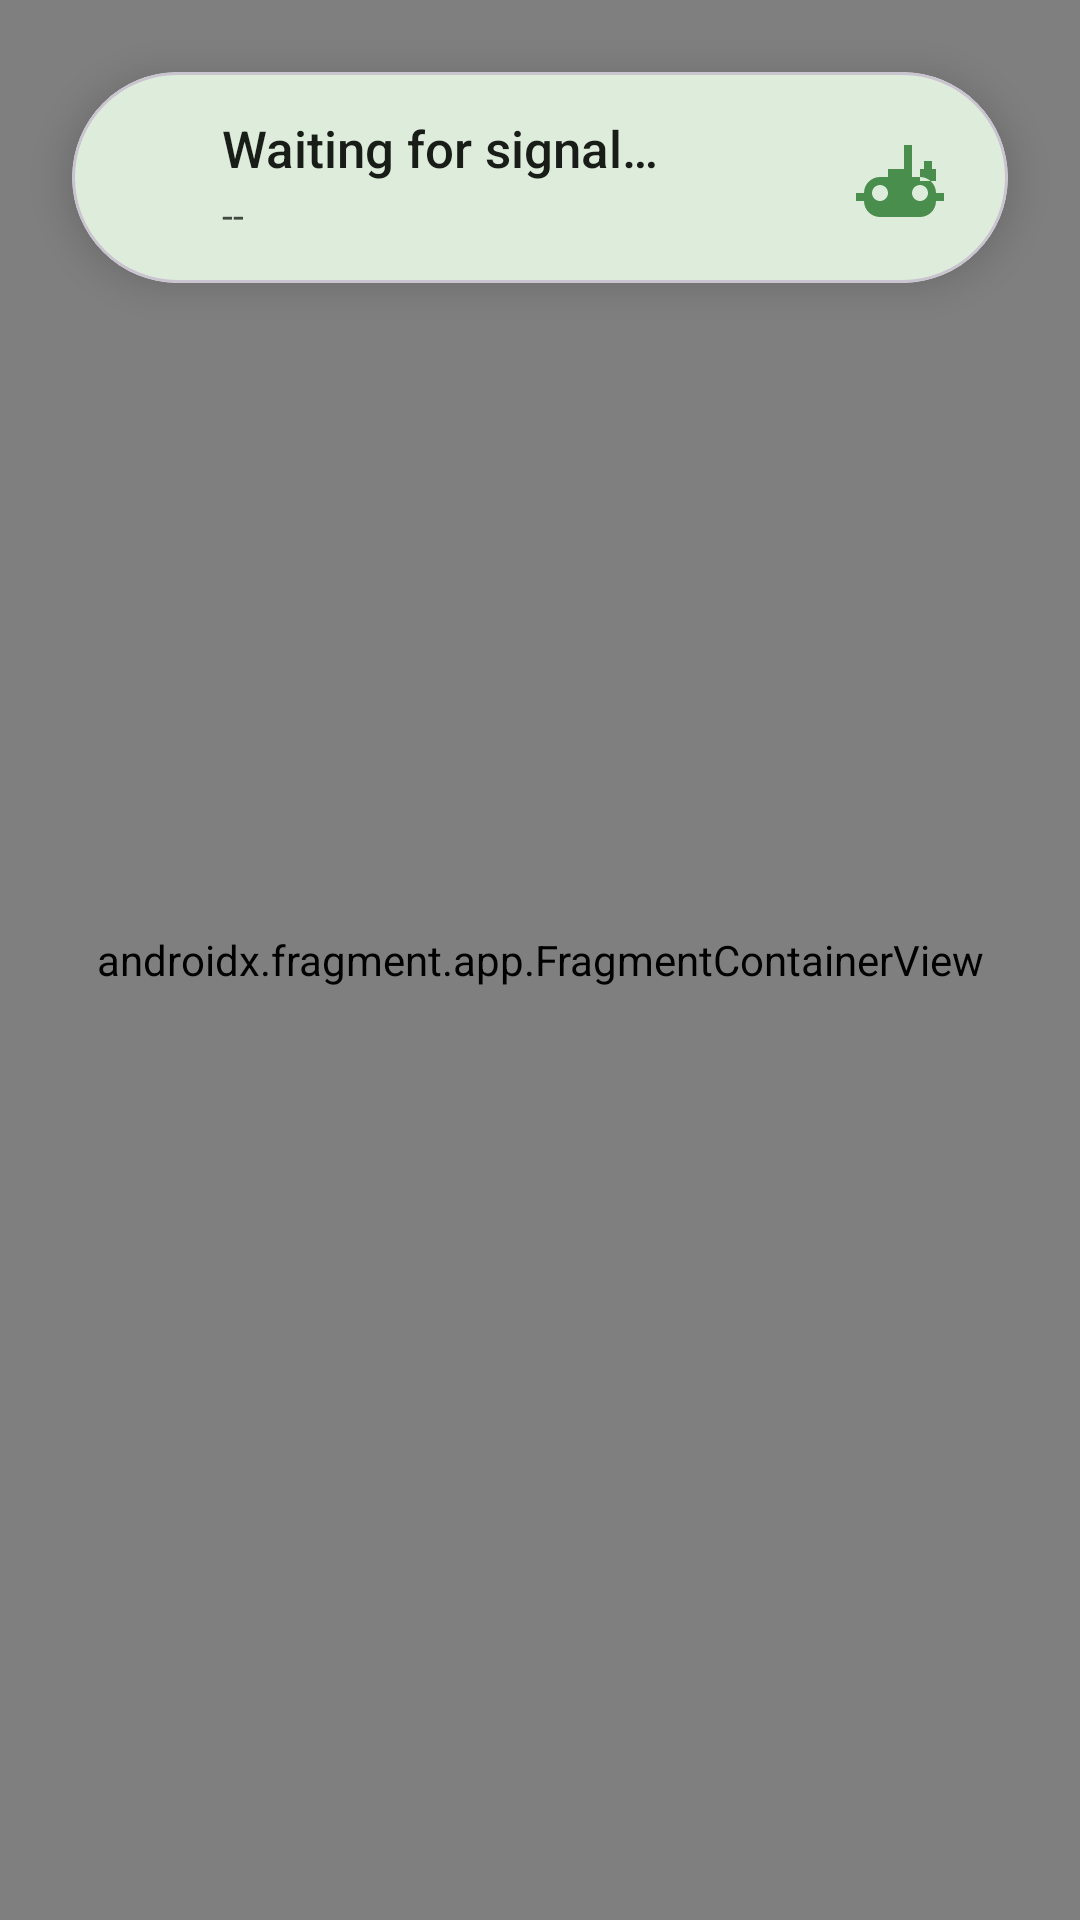

Screen size 1080px x 1920px. Icon name, then its box in pixels as (x1, y1, x2, y2):
tractor: (856, 145, 944, 217)
